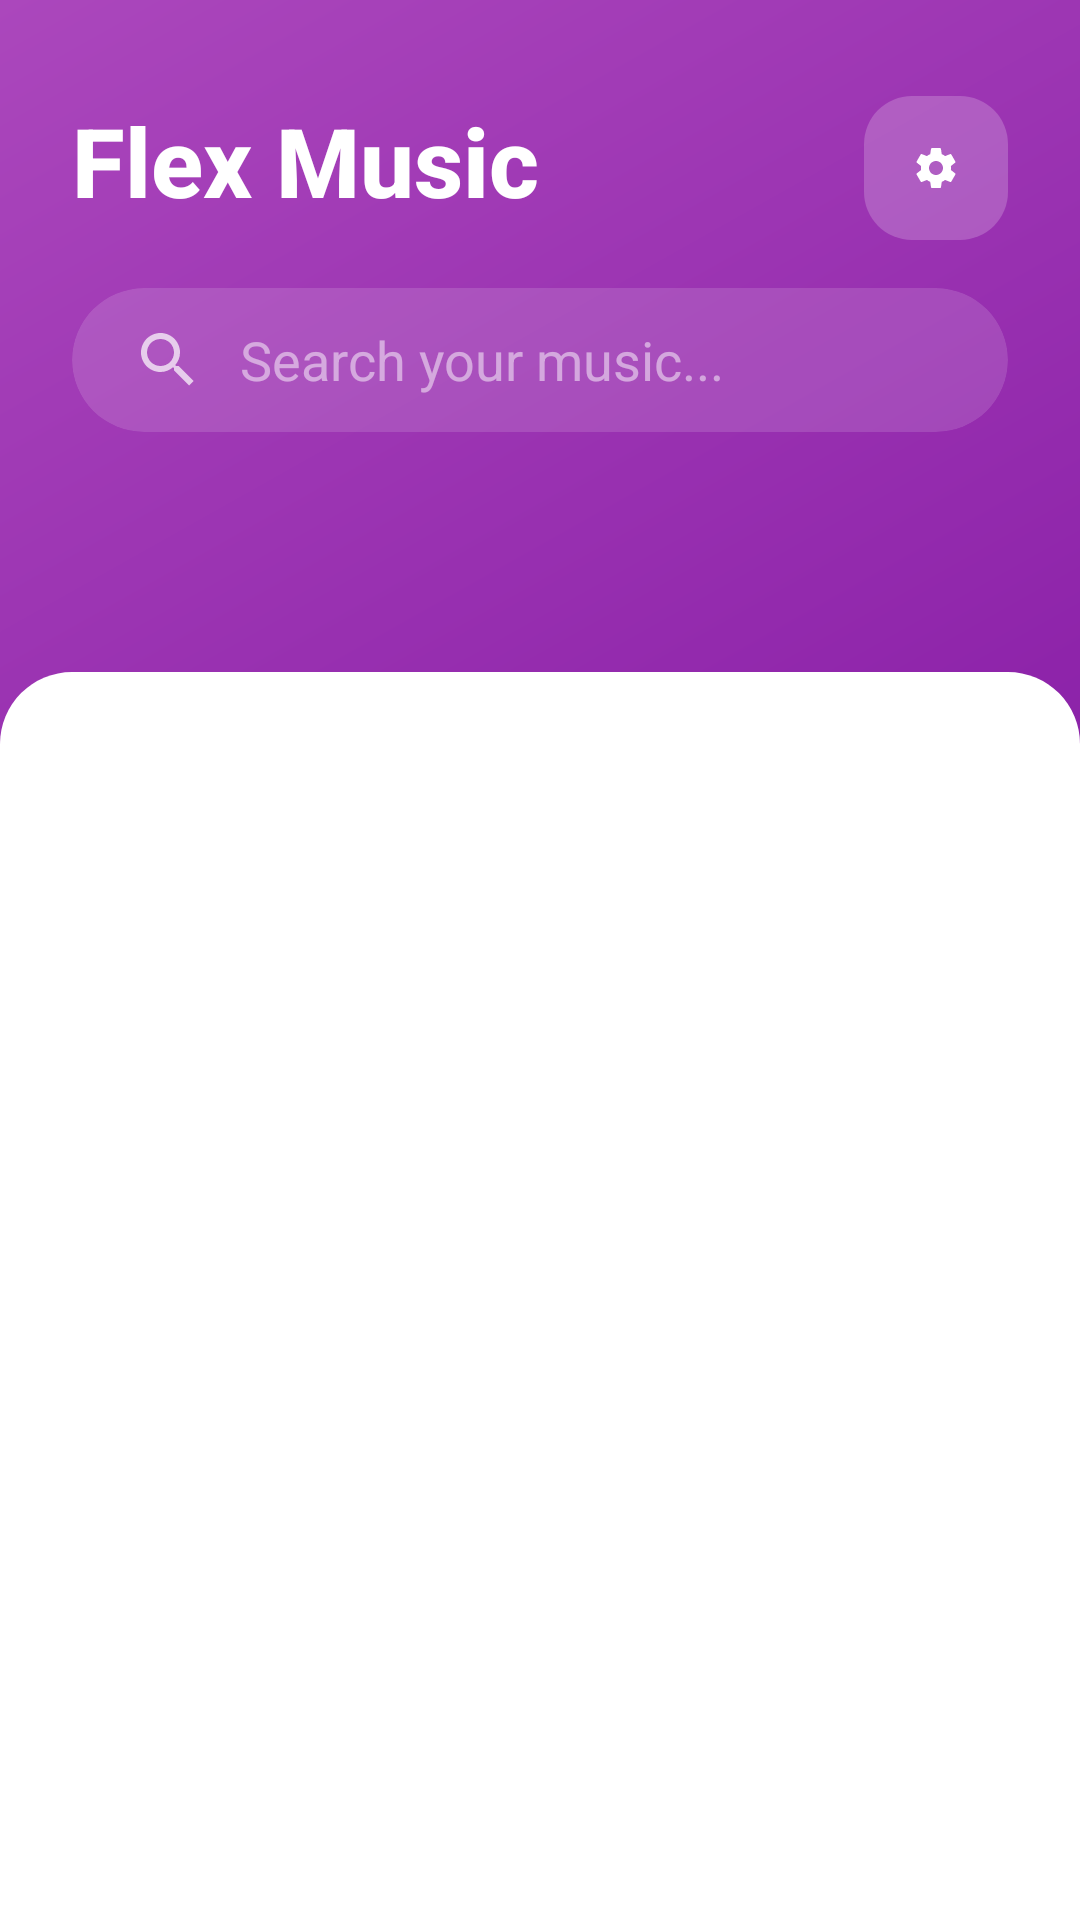

Icons on this 1080 x 1920 Android screen, each with the point to tap as (x=x, y=y):
Settings: (x=936, y=168)
